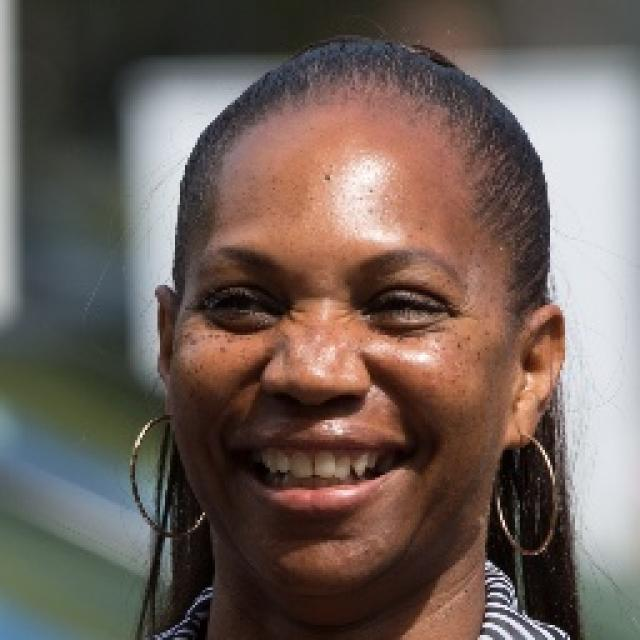earlobe: (498, 303, 566, 452), (153, 286, 181, 393)
